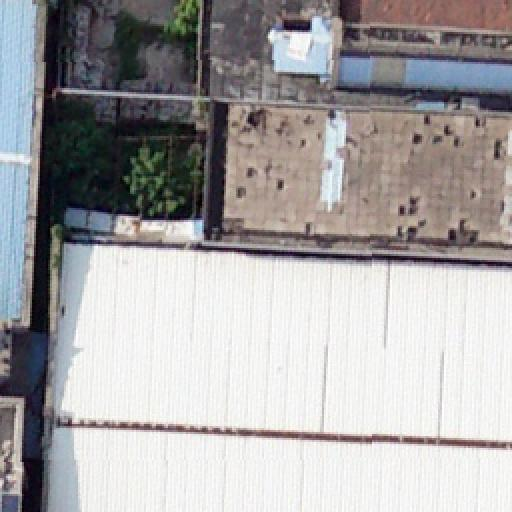solar-panel: (0, 492, 20, 512)
